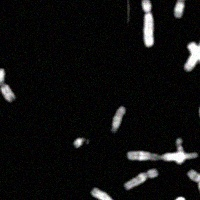chromosome: (184, 15, 200, 71), (128, 150, 198, 161), (124, 169, 158, 189), (142, 0, 154, 46), (0, 68, 14, 102), (187, 42, 200, 74), (91, 187, 122, 200), (188, 169, 200, 200), (112, 106, 124, 132), (173, 0, 190, 18), (176, 139, 184, 164), (74, 137, 88, 147), (174, 197, 187, 200), (199, 104, 200, 143)
